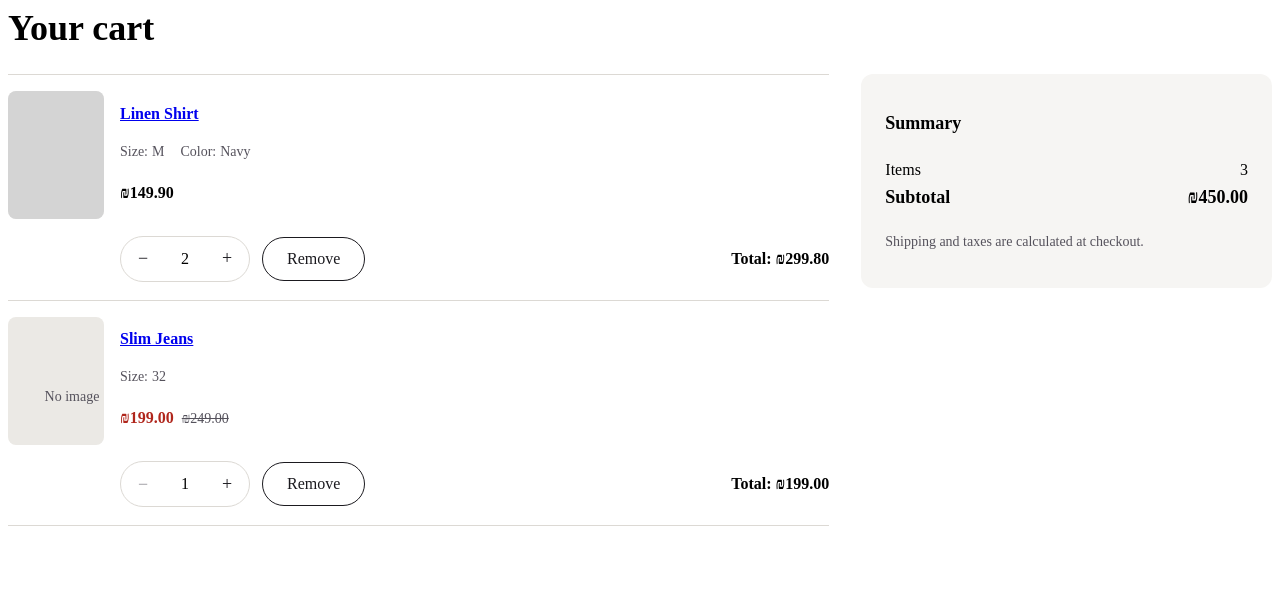
CartPage › refetches the cart after a conflict
Check: the list named "Cart items" is shown, box [8,74,829,526]
Click the button named "Increase quantity".
click(227, 259)  # box [205,237,249,281]
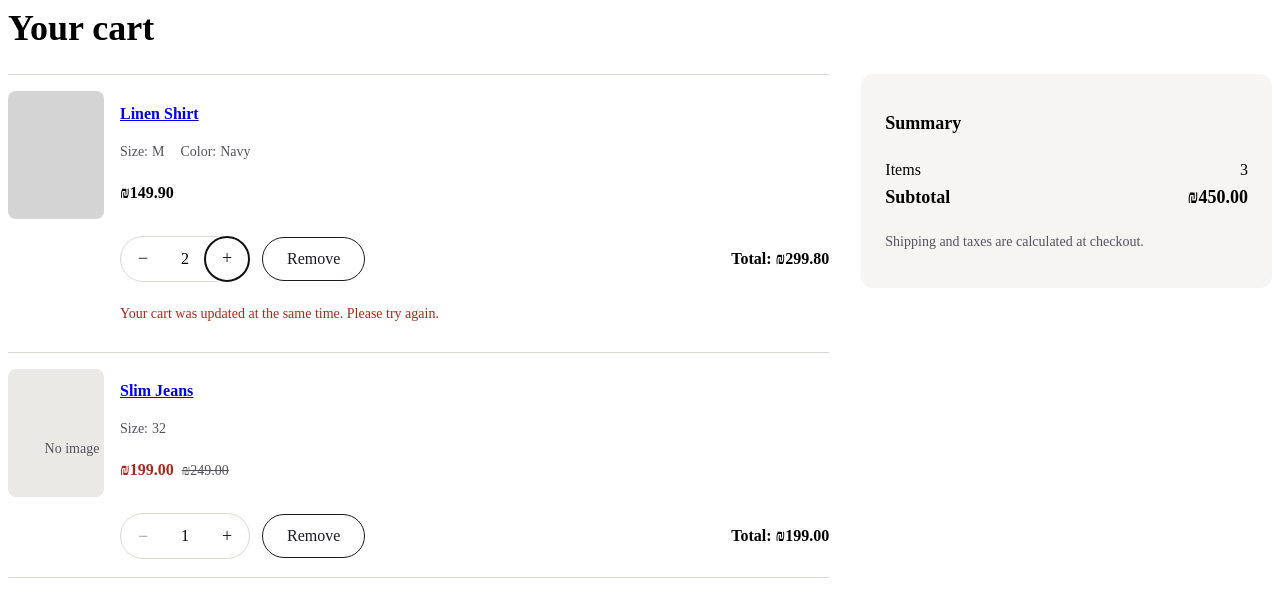
Check: the message reads "Your cart was updated at the same time. Please try again.", box [120,306,439,321]
